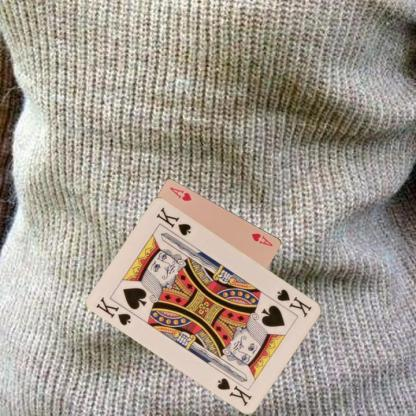Ah: (249, 230, 274, 247)
Ks: (93, 294, 132, 327), (274, 286, 314, 318)
